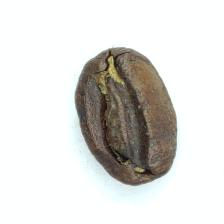NG: (90, 60, 156, 175)
